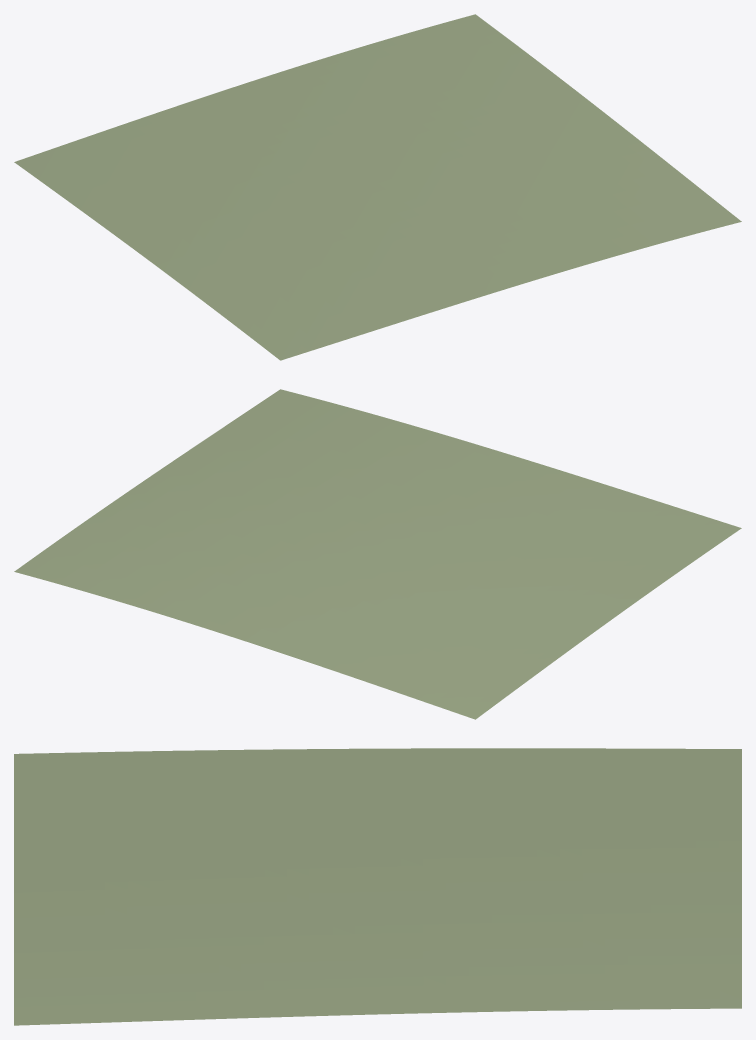
The model's file is expanse-21-15.glb.
3 views of the same model, one above another, from view 1: azimuth 30°, elevation 25°; view 2: azimuth 150°, elevation 25°; view 3: azimuth 270°, elevation 25° (orthographic). The views are drawn at different scales.
Parts seen in each view (by area): view 1: expanse-21-15; view 2: expanse-21-15; view 3: expanse-21-15.
Boxes of the visible parts, bbox=[...] form: expanse-21-15: bbox=[14, 14, 741, 360]; expanse-21-15: bbox=[14, 389, 741, 719]; expanse-21-15: bbox=[14, 748, 741, 1025].
Bounding box in the file's own units: 256 × 20.56 × 256.
